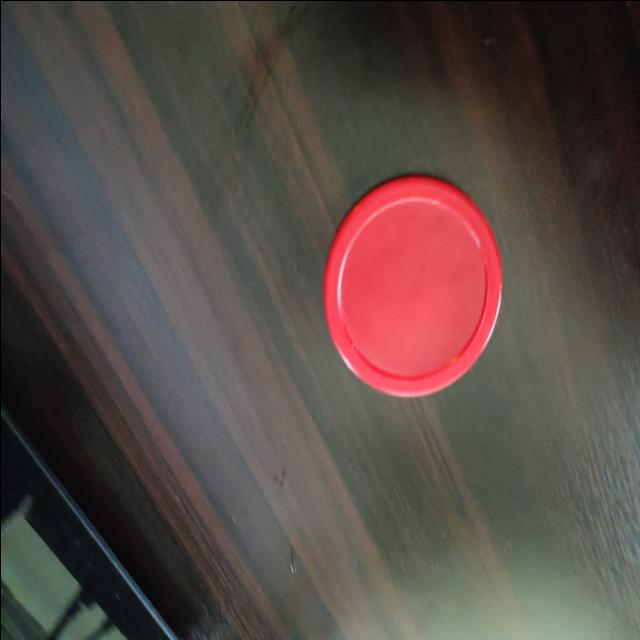chip: (320, 170, 506, 400)
